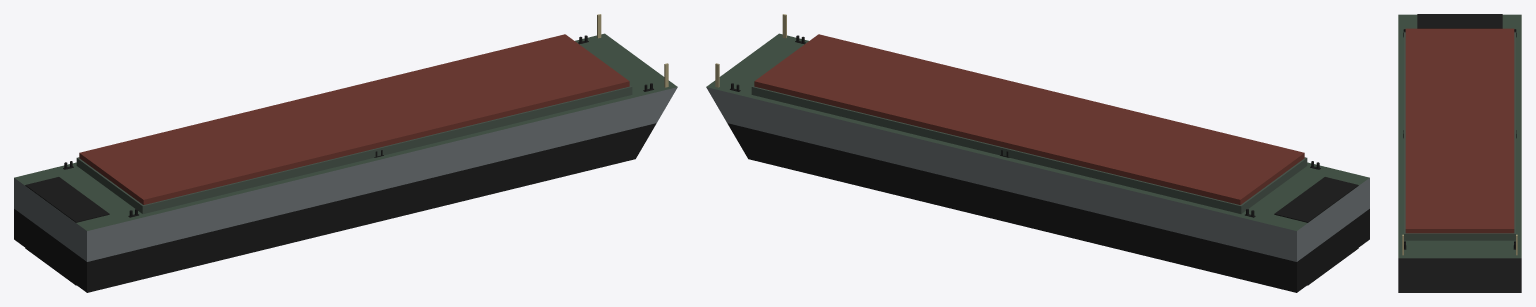
Rendered from barge70p.glb.
The picture shows the model from 3 angles, left to right: view 1: azimuth 30°, elevation 25°; view 2: azimuth 150°, elevation 25°; view 3: azimuth 270°, elevation 25°; orthographic projection. The views are drawn at different scales.
Visible parts, largest first — view 1: barge70p; view 2: barge70p; view 3: barge70p.
Part boxes in pixels (box(x1,y1,x2,y2)): barge70p: box(14, 14, 677, 292); barge70p: box(706, 14, 1369, 292); barge70p: box(1398, 14, 1521, 292).
Size of the model in its own units: 70 by 9.7 by 15.
